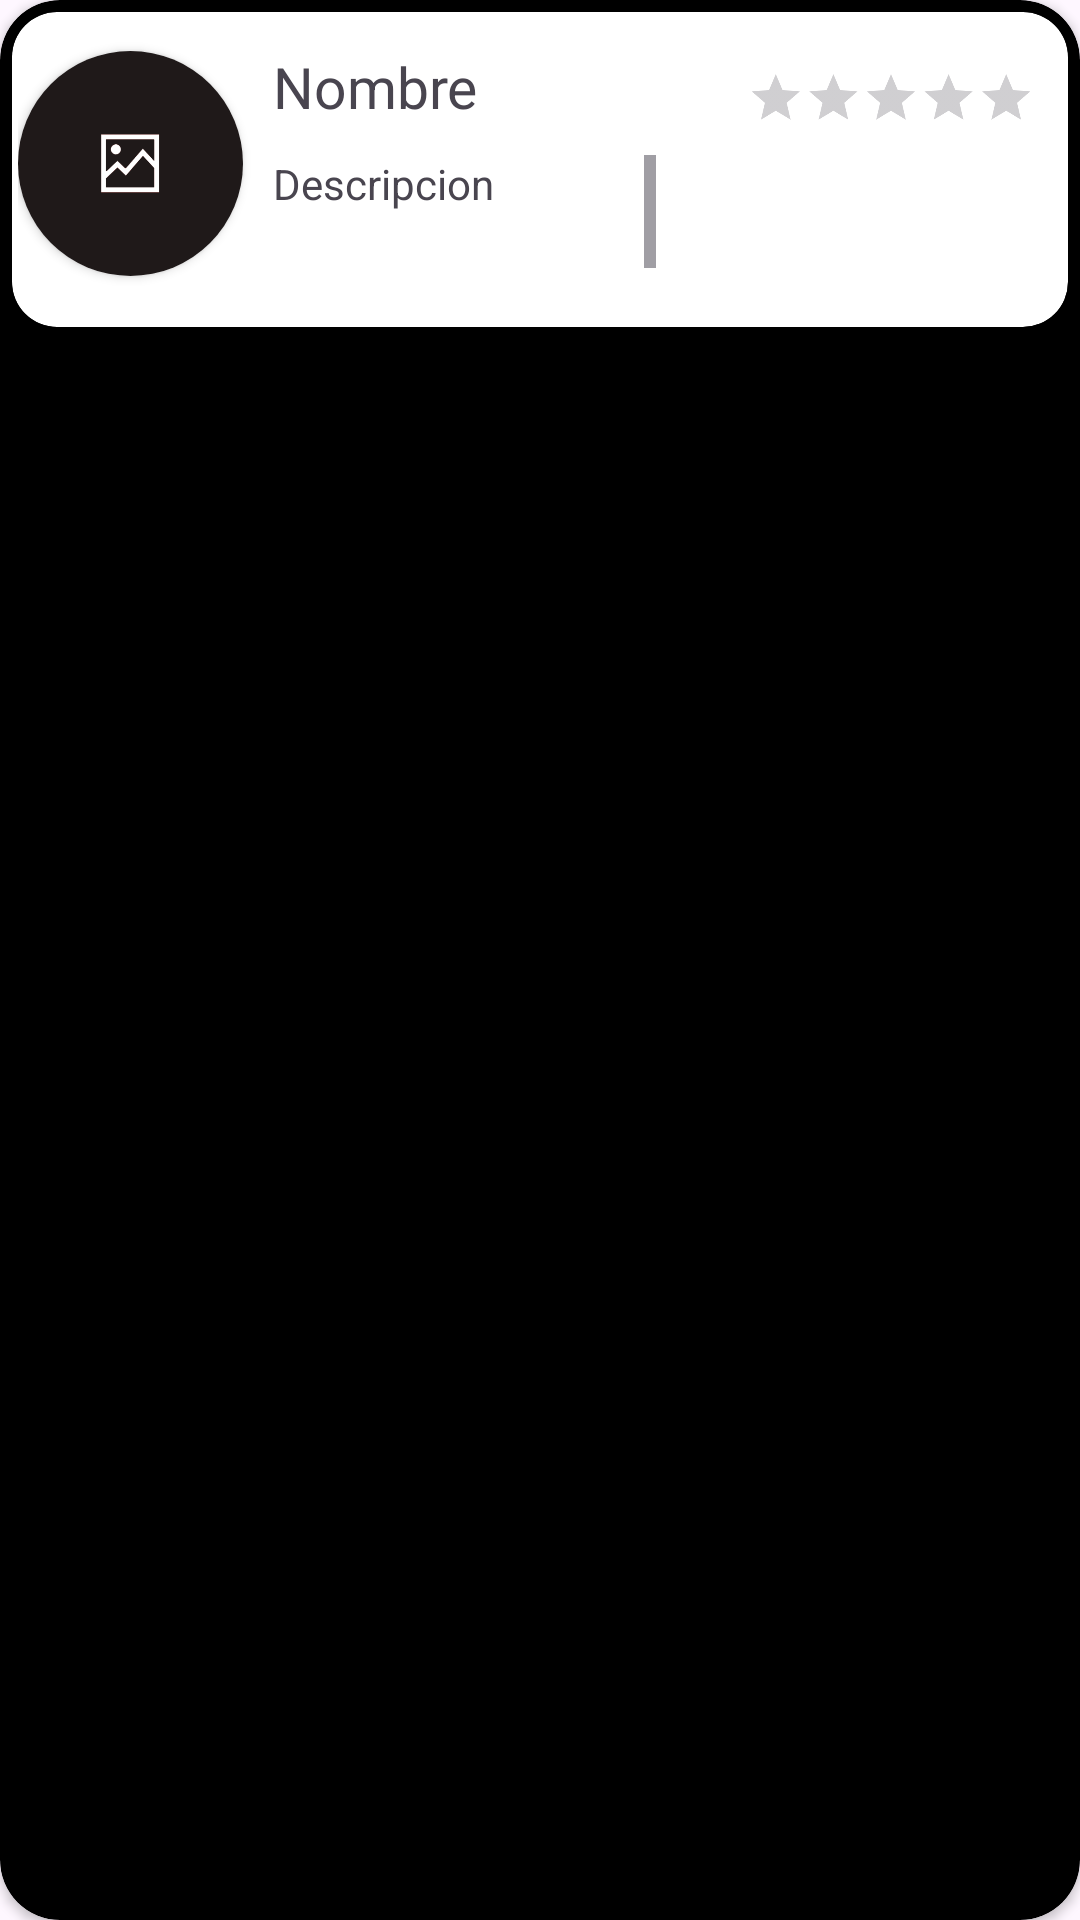

Named icons in this screenshot (1080x1920) and their bounding boxes, Rect(x1, y1, x2, y2):
fotodef: Rect(18, 51, 243, 276)
